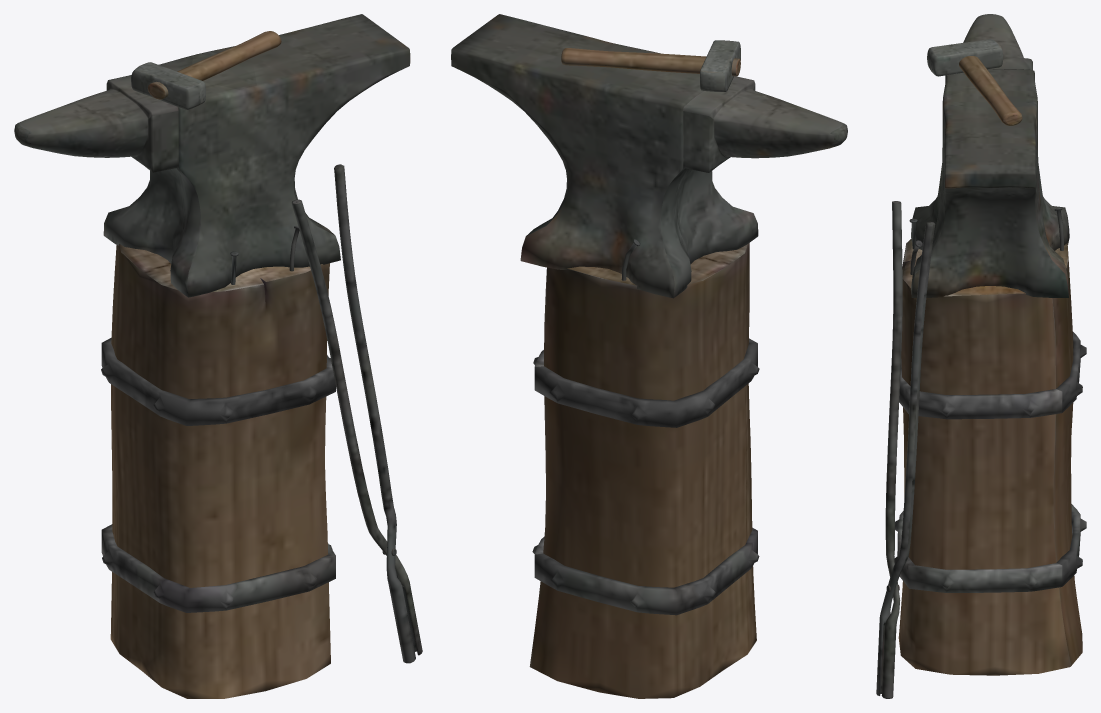
File: obj_anvil_nature_morte.glb
The picture shows the model from 3 angles, left to right: view 1: azimuth 30°, elevation 25°; view 2: azimuth 150°, elevation 25°; view 3: azimuth 270°, elevation 25°; orthographic projection. The views are drawn at different scales.
Parts seen in each view (by area): view 1: Cube:009_Cube:010.002_0; view 2: Cube:009_Cube:010.002_0; view 3: Cube:009_Cube:010.002_0.
Boxes of the visible parts, x1,y1,x2,y2 form: Cube:009_Cube:010.002_0: [14, 14, 422, 698]; Cube:009_Cube:010.002_0: [451, 14, 847, 698]; Cube:009_Cube:010.002_0: [876, 14, 1086, 698].
Size of the model in its own units: 0.5428 by 0.85 by 0.2876.
Materials: 1 (1 with a texture image).
